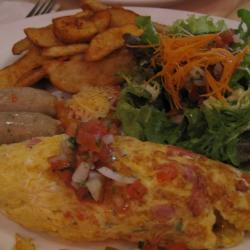fries: (13, 13, 136, 86)
omelette: (1, 132, 248, 250)
salad: (132, 25, 249, 161)
